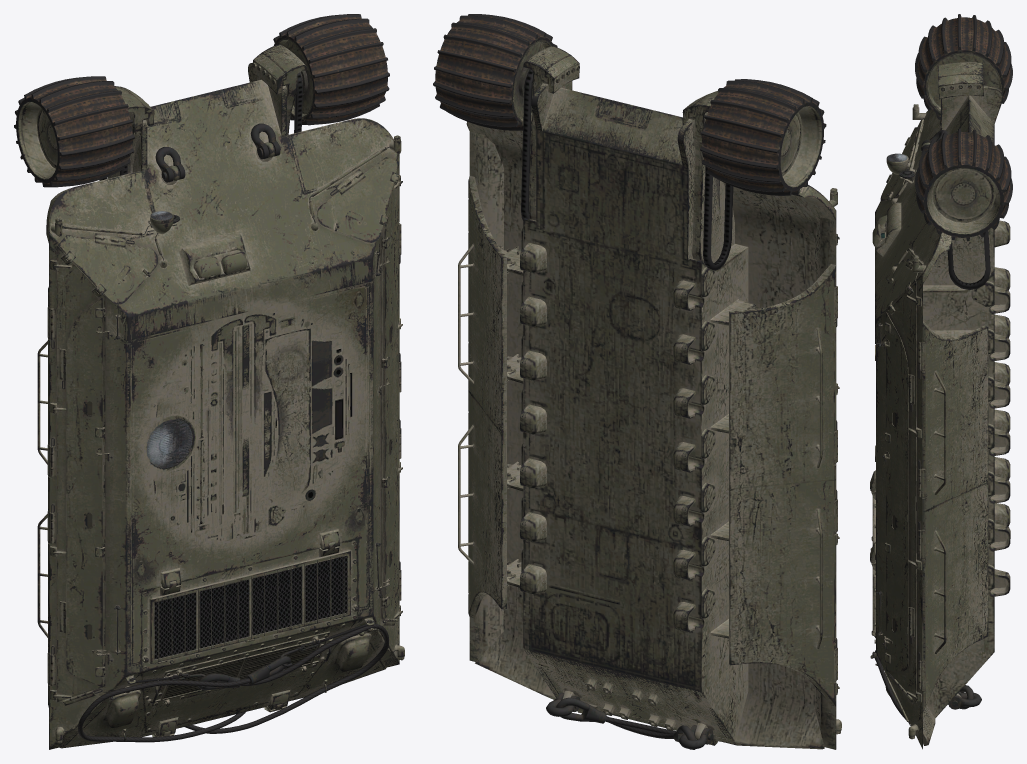
File: Hull.glb
The picture shows the model from 3 angles, left to right: view 1: azimuth 30°, elevation 25°; view 2: azimuth 150°, elevation 25°; view 3: azimuth 270°, elevation 25°; orthographic projection. The views are drawn at different scales.
Visible parts, largest first — view 1: set_0_group_0, set_0_group_1; view 2: set_0_group_0, set_0_group_1; view 3: set_0_group_0, set_0_group_1.
Boxes of the visible parts, left/top/right/bottom form: set_0_group_0: left=37, top=44, right=404, bottom=749; set_0_group_1: left=14, top=14, right=389, bottom=187; set_0_group_0: left=458, top=46, right=841, bottom=749; set_0_group_1: left=433, top=14, right=826, bottom=270; set_0_group_0: left=870, top=62, right=1010, bottom=749; set_0_group_1: left=915, top=14, right=1012, bottom=289.
Bounding box in the file's own units: 3.31 × 6.02 × 1.27.
Materials: 2 (2 with a texture image).
